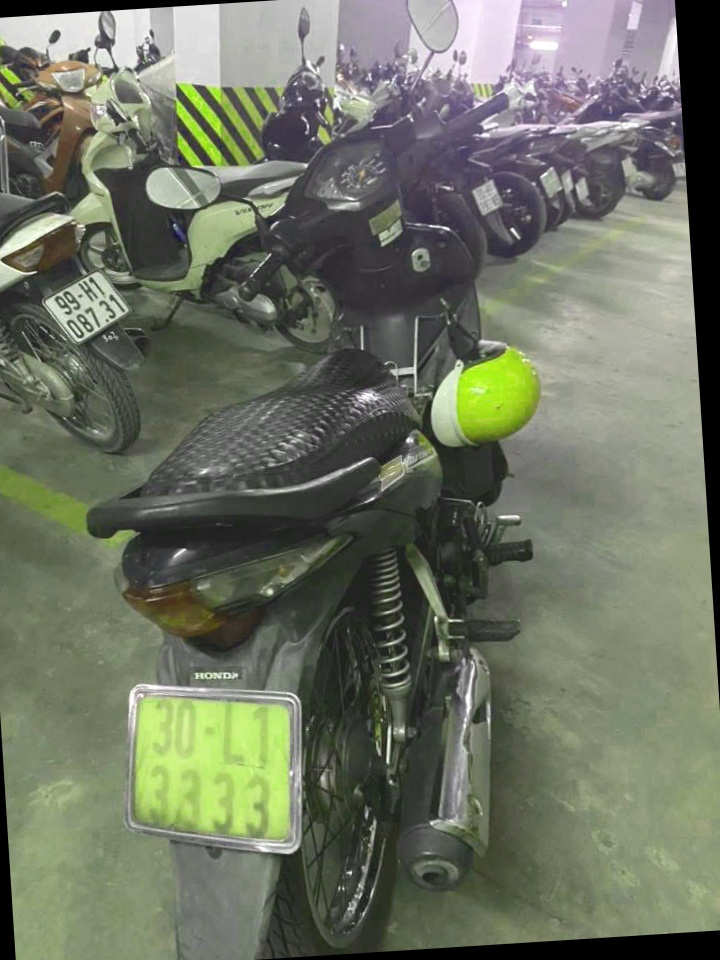Bien-so: (121, 666, 318, 872), (40, 265, 140, 353), (470, 180, 508, 222)
